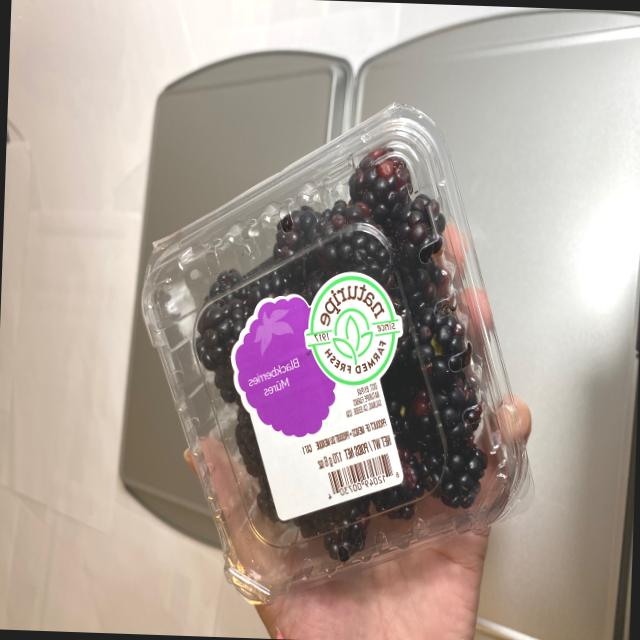blackberries: (118, 106, 524, 582)
